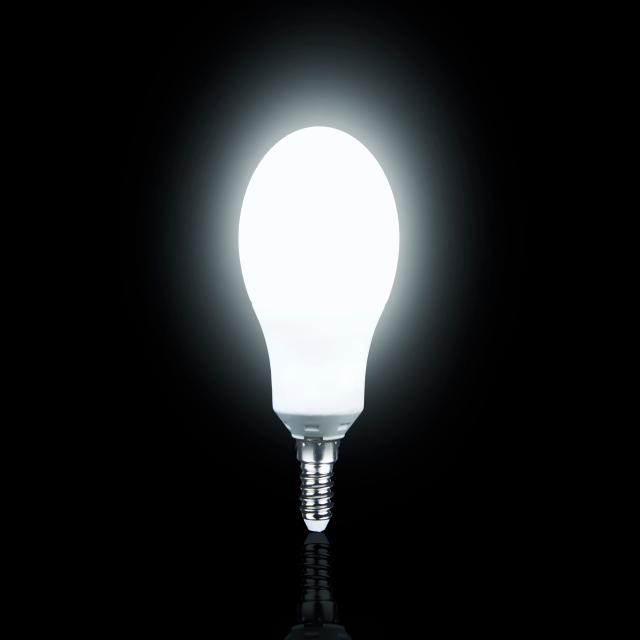Hazard: (235, 122, 406, 545)
